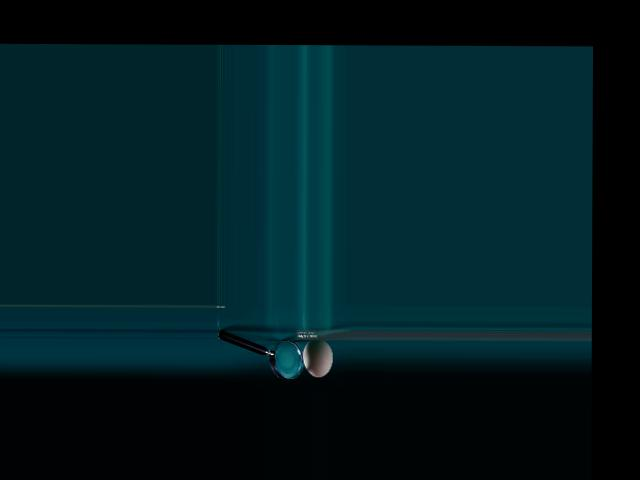egg: (302, 338, 333, 377)
